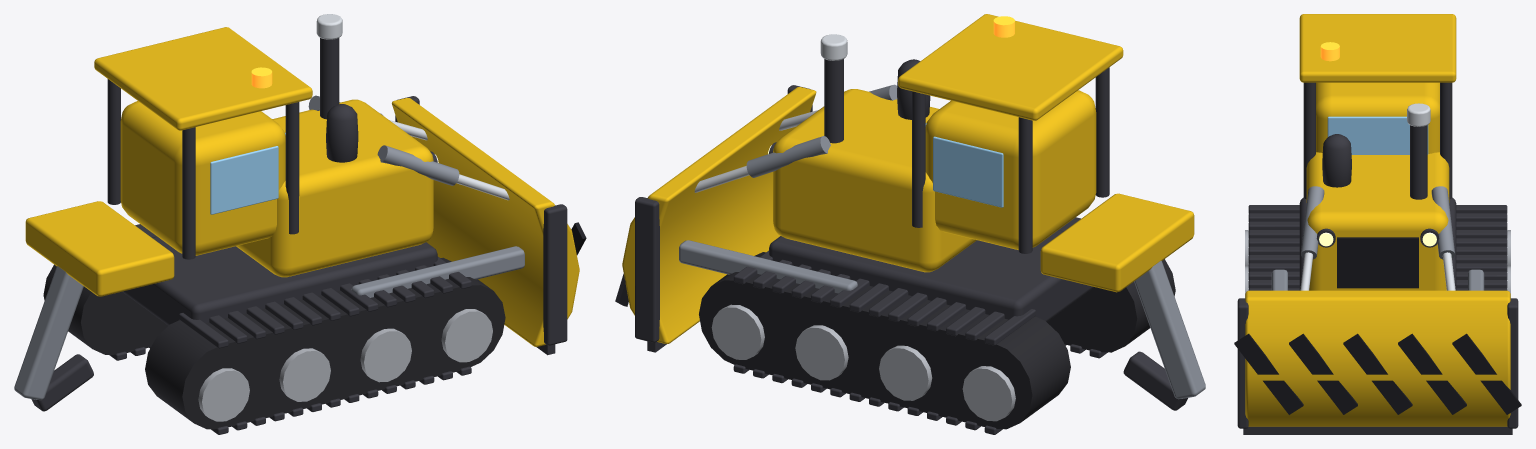
File: vehicle_building_destroyer.glb
3 renders of one model, left to right at view 1: azimuth 30°, elevation 25°; view 2: azimuth 150°, elevation 25°; view 3: azimuth 270°, elevation 25°, orthographic. The views are drawn at different scales.
Visible parts, largest first — view 1: Track.Belt, Hood, Blade.Shell, Cab.Shell, Rops.Roof, Frame, Ripper.Beam, Track.Pad, Track.Belt.001, Ripper.Shank, Cab.SideWindow, Blade.Wing (+15 smaller); view 2: Track.Belt.001, Hood, Blade.Shell, Cab.Shell, Rops.Roof, Frame, Ripper.Beam, Track.Pad.002, Track.Belt, Ripper.Shank, Cab.SideWindow.001, Blade.Wing.001 (+15 smaller); view 3: Blade.Shell, Hood, Rops.Roof, Blade.Stripe, Cab.Shell, Grille, Track.Pad, Track.Pad.002, Cab.Windshield, Blade.Edge, AirFilter, Exhaust.Pipe (+13 smaller).
Boxes of the visible parts, bbox=[...] form: Track.Belt: bbox=[145, 257, 505, 429]; Hood: bbox=[236, 99, 433, 277]; Blade.Shell: bbox=[391, 98, 579, 346]; Cab.Shell: bbox=[120, 101, 285, 255]; Rops.Roof: bbox=[94, 27, 312, 130]; Frame: bbox=[122, 236, 437, 325]; Ripper.Beam: bbox=[25, 201, 174, 296]; Track.Pad: bbox=[179, 256, 471, 348]; Track.Belt.001: bbox=[43, 264, 168, 354]; Ripper.Shank: bbox=[14, 266, 83, 400]; Cab.SideWindow: bbox=[210, 146, 278, 214]; Blade.Wing: bbox=[543, 204, 567, 345]; Track.Belt.001: bbox=[699, 252, 1070, 429]; Hood: bbox=[773, 89, 976, 272]; Blade.Shell: bbox=[622, 87, 816, 343]; Cab.Shell: bbox=[925, 90, 1096, 249]; Rops.Roof: bbox=[898, 14, 1123, 120]; Frame: bbox=[769, 230, 1094, 321]; Ripper.Beam: bbox=[1040, 193, 1194, 292]; Track.Pad.002: bbox=[733, 250, 1035, 345]; Track.Belt: bbox=[1047, 259, 1175, 352]; Ripper.Shank: bbox=[1134, 260, 1205, 399]; Cab.SideWindow.001: bbox=[933, 136, 1003, 207]; Blade.Wing.001: bbox=[635, 197, 659, 342]; Blade.Shell: bbox=[1245, 290, 1510, 426]; Hood: bbox=[1306, 152, 1449, 290]; Rops.Roof: bbox=[1299, 14, 1456, 82]; Blade.Stripe: bbox=[1234, 333, 1521, 414]; Cab.Shell: bbox=[1316, 82, 1439, 153]; Grille: bbox=[1337, 237, 1418, 288]; Track.Pad: bbox=[1248, 205, 1299, 290]; Track.Pad.002: bbox=[1456, 205, 1507, 290]; Cab.Windshield: bbox=[1327, 116, 1428, 154]; Blade.Edge: bbox=[1243, 426, 1512, 434]; AirFilter: bbox=[1322, 134, 1351, 187]; Exhaust.Pipe: bbox=[1410, 125, 1427, 199].
Bounding box in the file's own units: 3.79 × 2.29 × 2.11.
